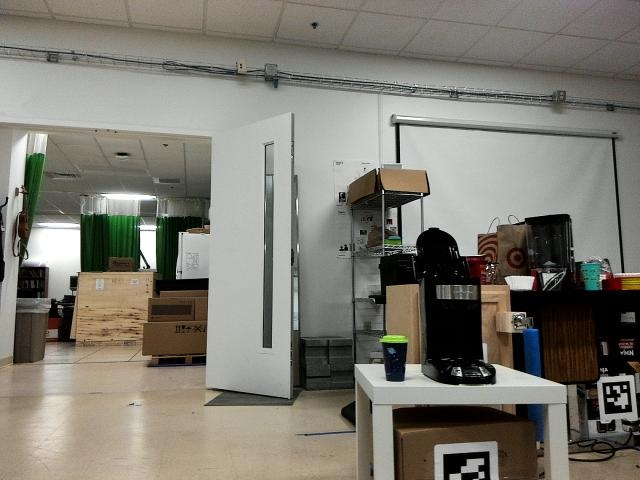coffee_cup: (579, 261, 605, 292)
noodle_handle: (516, 319, 546, 377)
useless_cup: (379, 334, 408, 380)
